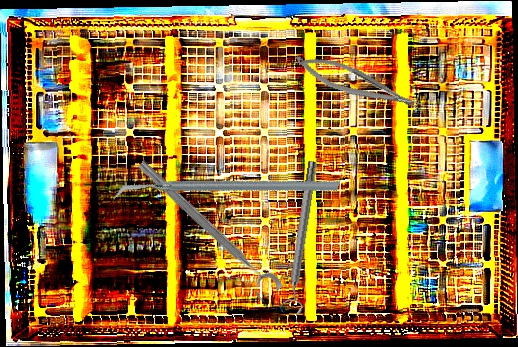Chopper: (113, 101, 341, 280)
Fixation Ring: (126, 156, 285, 306), (277, 159, 327, 316)
Needle Holder: (289, 44, 427, 124)
